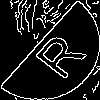R: (25, 25, 88, 82)
